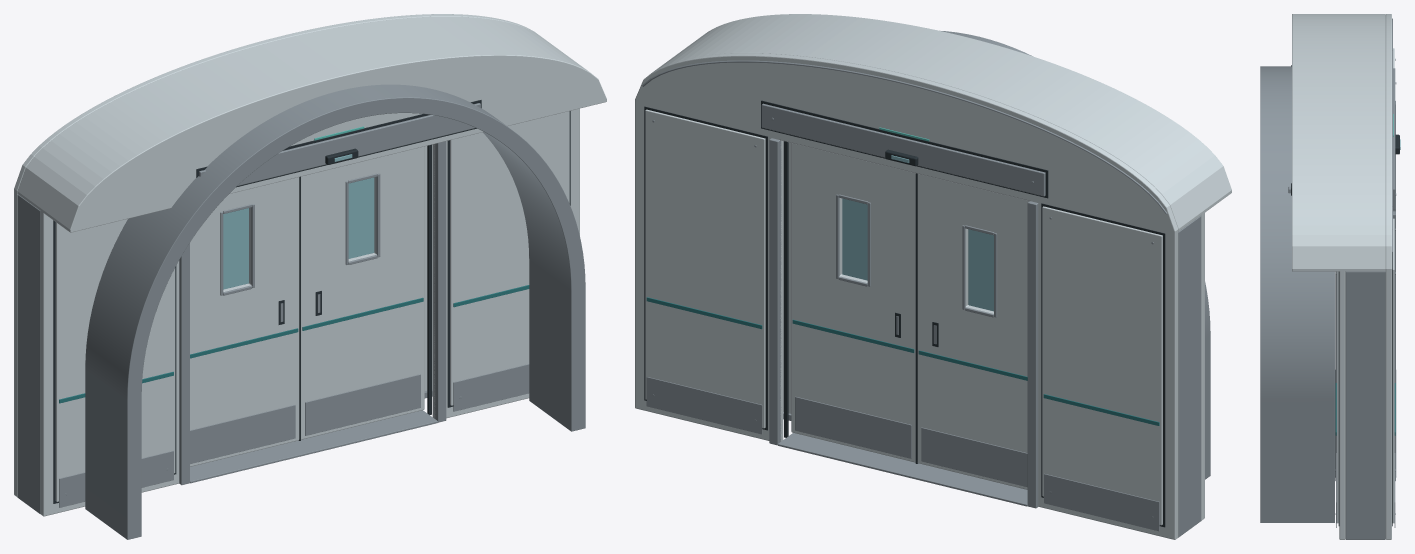
Rendered from CDR_ClinicalPortal.fbx.
The picture shows the model from 3 angles, left to right: view 1: azimuth 30°, elevation 25°; view 2: azimuth 150°, elevation 25°; view 3: azimuth 270°, elevation 25°; orthographic projection. The views are drawn at different scales.
Visible parts, largest first — view 1: CDR_Frame, CDR_Leaf_Left, CDR_Leaf_Right; view 2: CDR_Frame, CDR_Leaf_Left, CDR_Leaf_Right; view 3: CDR_Frame.
Boxes of the visible parts, <box> form: CDR_Frame: <box>14,14,606,539</box>; CDR_Leaf_Left: <box>300,146,424,440</box>; CDR_Leaf_Right: <box>190,177,300,466</box>; CDR_Frame: <box>635,14,1231,539</box>; CDR_Leaf_Left: <box>791,143,916,463</box>; CDR_Leaf_Right: <box>916,173,1029,489</box>; CDR_Frame: <box>1260,14,1400,539</box>.
Bounding box in the file's own units: 520 × 365 × 133.
